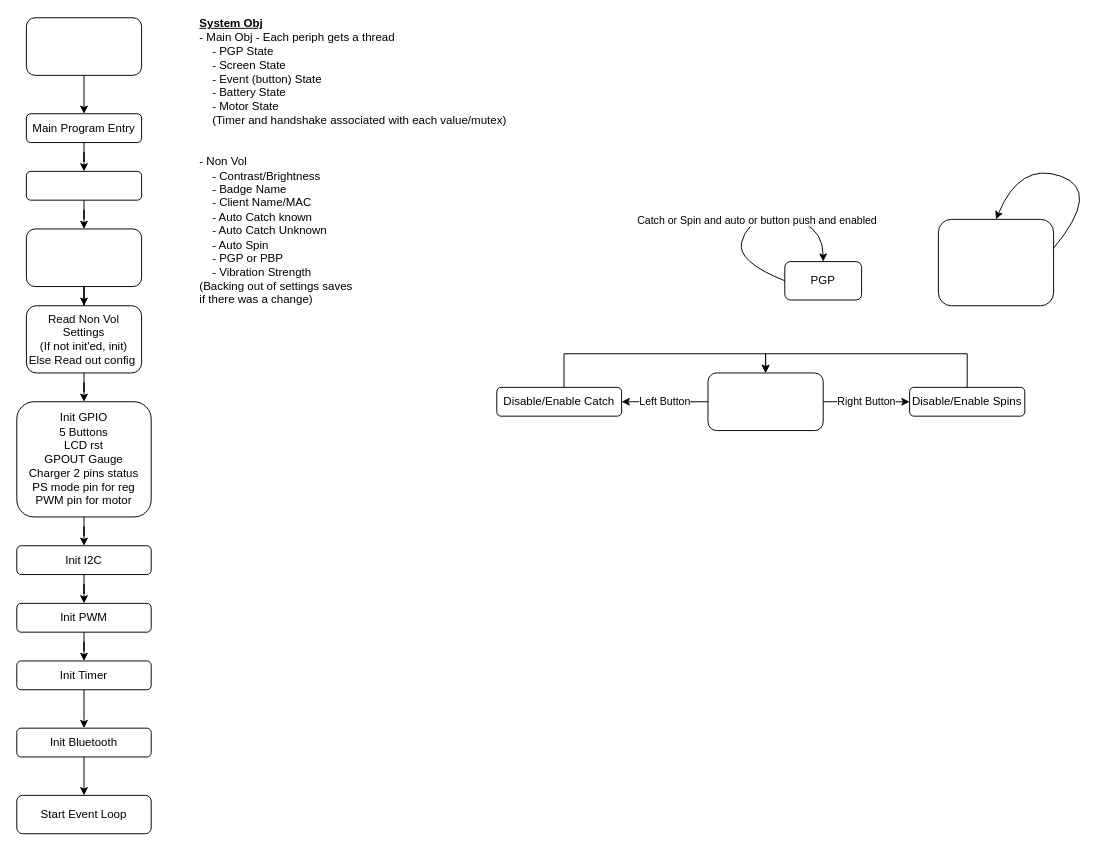
This 1097x851 diagram has some shape labels left out. The centre of each missing label's shape, as x and y in pixels:
"Create System Obj" belongs at pixel 83 257.
"Init UART" belongs at pixel 83 185.
"Main Menu" belongs at pixel 765 401.
"Power Applied" belongs at pixel 83 46.
"Screen Display based on system obj states Transitions will be tricky" belongs at pixel 995 262.
